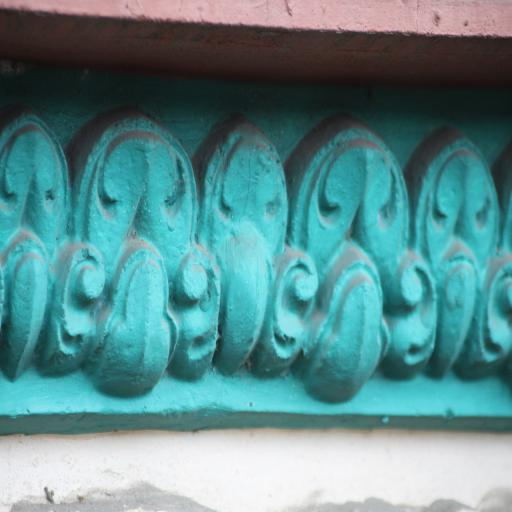la: (64, 96, 218, 394), (283, 106, 435, 405), (403, 126, 512, 380), (200, 117, 304, 373), (0, 132, 68, 378)
